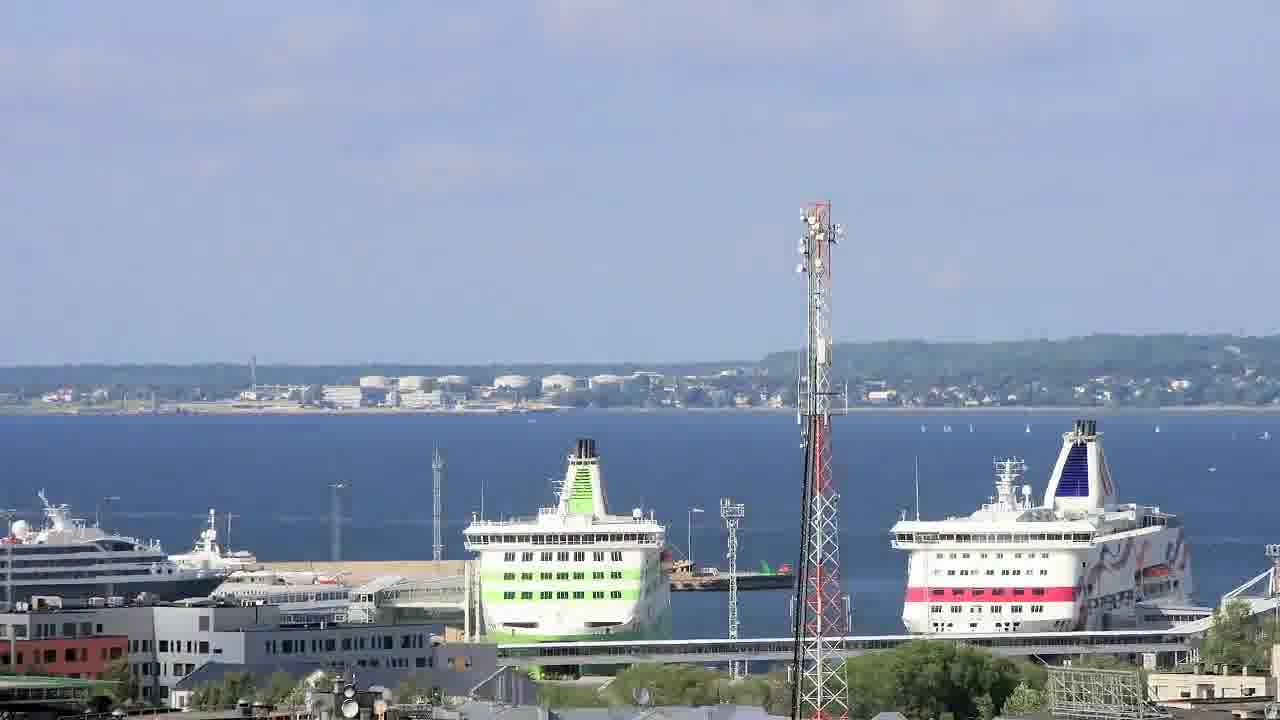type-3: (868, 415, 1225, 638), (436, 434, 694, 670), (0, 477, 241, 608), (185, 520, 369, 613)
